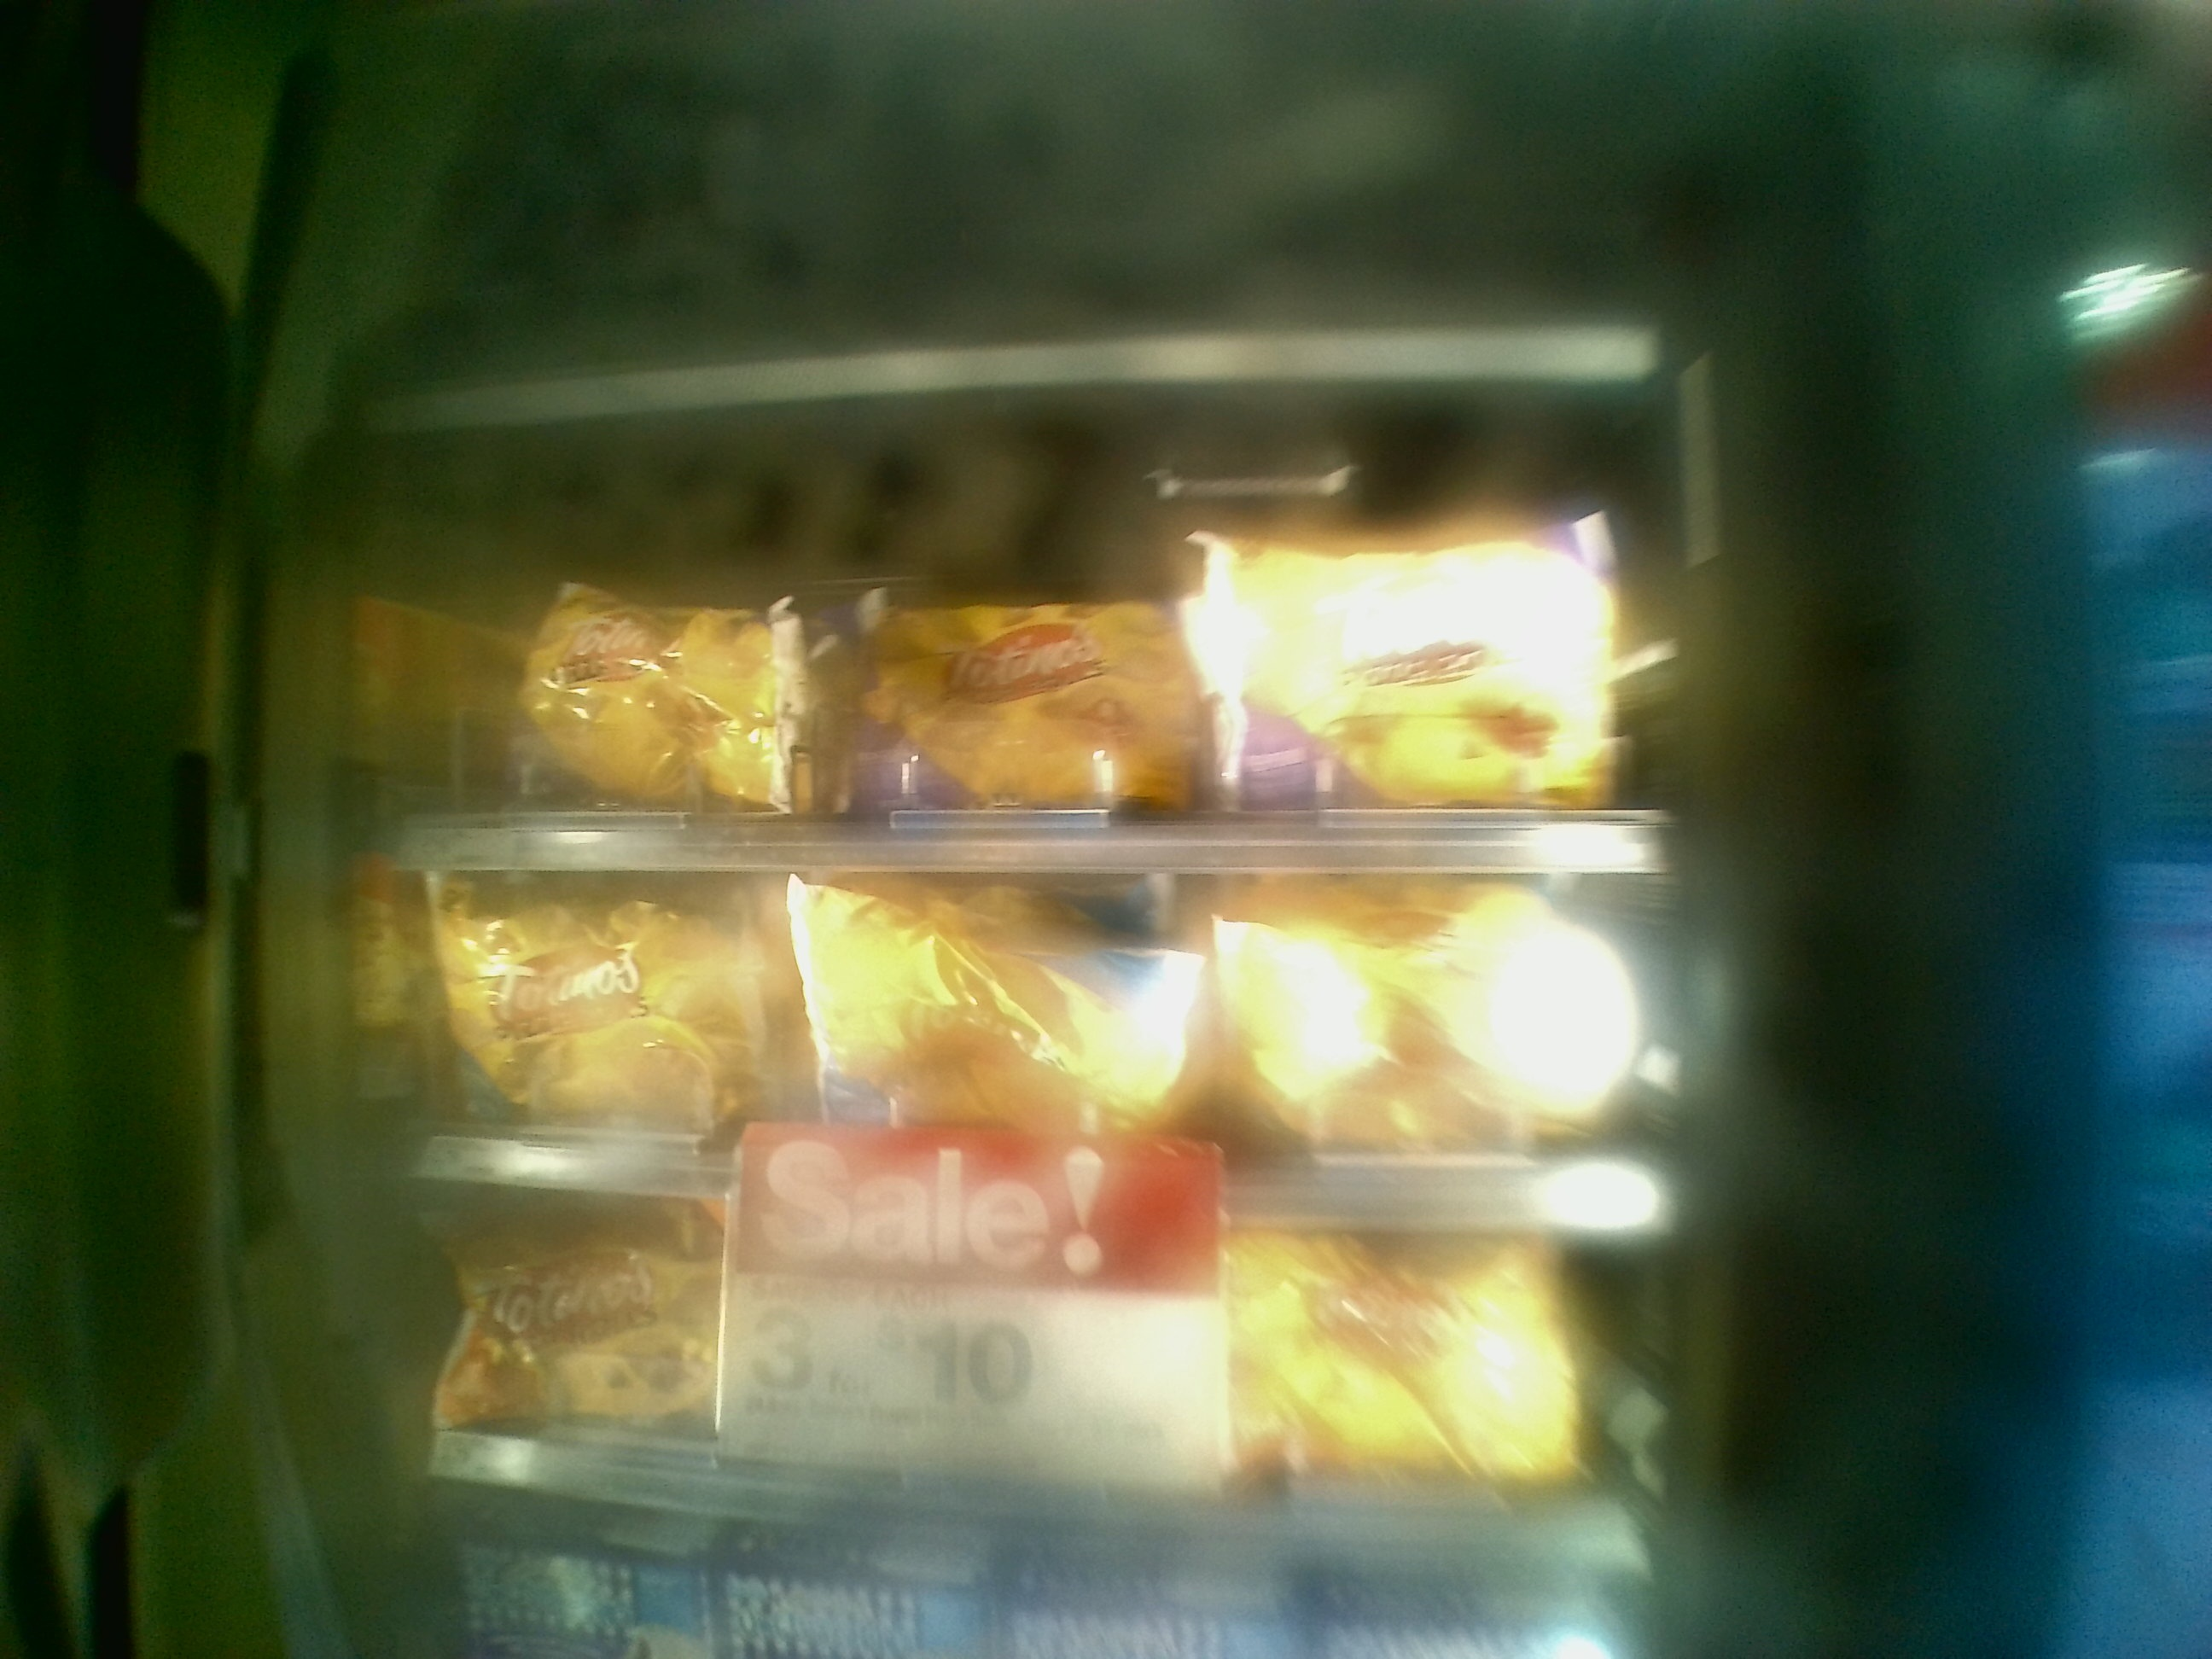shelf: (361, 328, 1672, 864), (378, 849, 1660, 1223)
